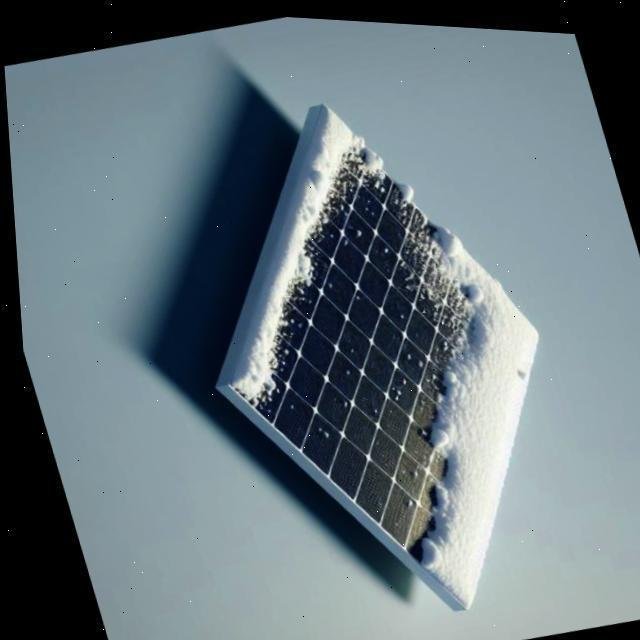Anomaly Solar Panel: (192, 102, 594, 602)
Snow: (389, 203, 556, 607), (223, 101, 401, 427), (388, 177, 414, 207)
